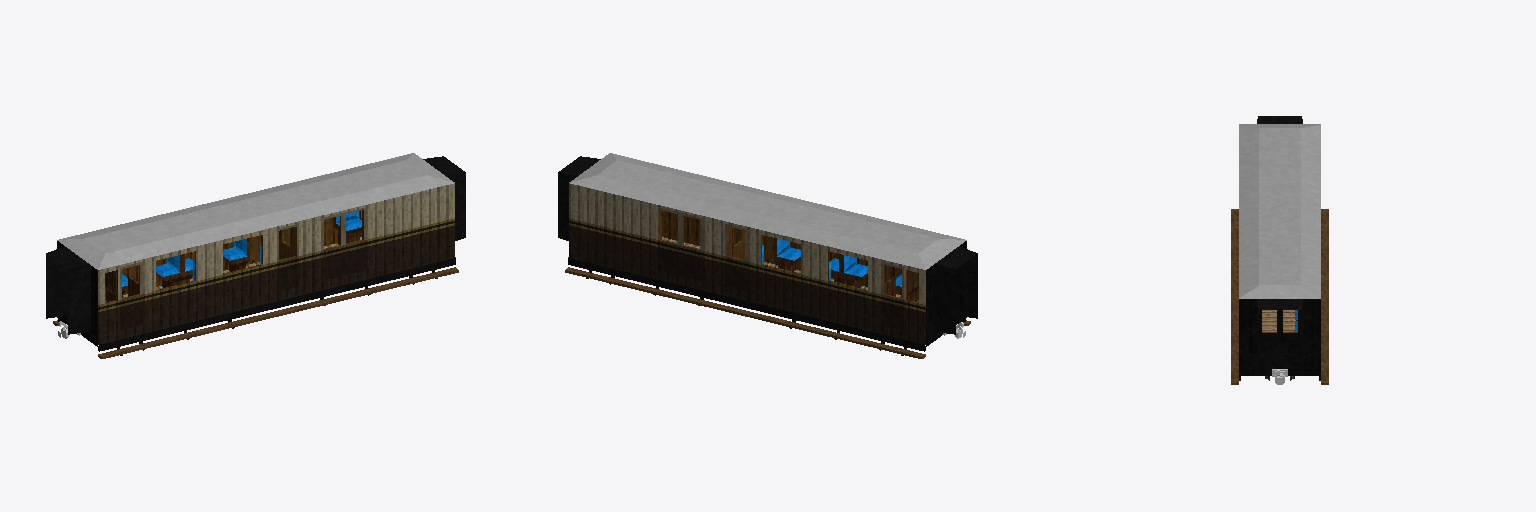
3 renders of one model, left to right at view 1: azimuth 30°, elevation 25°; view 2: azimuth 150°, elevation 25°; view 3: azimuth 270°, elevation 25°, orthographic.
Visible parts, largest first — view 1: SHELL_WOOD_ext, SHELL_WOOD_roof, corridor_front, FRAME, SHELL_WOOD_int, corridor_rear, DOOR_12_EXTERNAL, DOOR_8_EXTERNAL, DOOR_14_EXTERNAL, DOOR_6_EXTERNAL, bench.003, bench.005; view 2: SHELL_WOOD_ext, SHELL_WOOD_roof, corridor_front, FRAME, SHELL_WOOD_int, corridor_rear, DOOR_11_EXTERNAL, DOOR_7_EXTERNAL, DOOR_13_EXTERNAL, DOOR_5_EXTERNAL, bench.002, bench.004; view 3: SHELL_WOOD_roof, SHELL_WOOD_ext, COUPLED_REAR_4, corridor_rear, SHELL_WOOD_int.
Boxes of the visible parts, x1=… form: SHELL_WOOD_ext: x1=53, y1=183, x2=458, y2=358; SHELL_WOOD_roof: x1=57, y1=153, x2=454, y2=269; corridor_front: x1=46, y1=247, x2=90, y2=334; FRAME: x1=58, y1=257, x2=455, y2=351; SHELL_WOOD_int: x1=105, y1=211, x2=361, y2=303; corridor_rear: x1=423, y1=156, x2=465, y2=240; DOOR_12_EXTERNAL: x1=321, y1=213, x2=343, y2=280; DOOR_8_EXTERNAL: x1=120, y1=262, x2=142, y2=329; DOOR_14_EXTERNAL: x1=344, y1=207, x2=365, y2=275; DOOR_6_EXTERNAL: x1=277, y1=224, x2=298, y2=291; bench.003: x1=156, y1=254, x2=192, y2=287; bench.005: x1=223, y1=238, x2=249, y2=271; SHELL_WOOD_ext: x1=565, y1=183, x2=970, y2=358; SHELL_WOOD_roof: x1=569, y1=153, x2=966, y2=269; corridor_front: x1=933, y1=247, x2=977, y2=334; FRAME: x1=568, y1=257, x2=965, y2=351; SHELL_WOOD_int: x1=662, y1=211, x2=918, y2=303; corridor_rear: x1=558, y1=156, x2=600, y2=240; DOOR_11_EXTERNAL: x1=680, y1=213, x2=702, y2=280; DOOR_7_EXTERNAL: x1=881, y1=262, x2=903, y2=329; DOOR_13_EXTERNAL: x1=658, y1=207, x2=679, y2=275; DOOR_5_EXTERNAL: x1=725, y1=224, x2=746, y2=291; bench.002: x1=831, y1=254, x2=867, y2=287; bench.004: x1=774, y1=238, x2=800, y2=271; SHELL_WOOD_roof: x1=1239, y1=124, x2=1320, y2=298; SHELL_WOOD_ext: x1=1231, y1=209, x2=1328, y2=384; COUPLED_REAR_4: x1=1259, y1=348, x2=1300, y2=367; corridor_rear: x1=1257, y1=299, x2=1302, y2=372; SHELL_WOOD_int: x1=1262, y1=310, x2=1295, y2=331.
Size of the model in its own units: 11.12 by 2.62 by 2.38.
Materials: 7 (5 with a texture image).